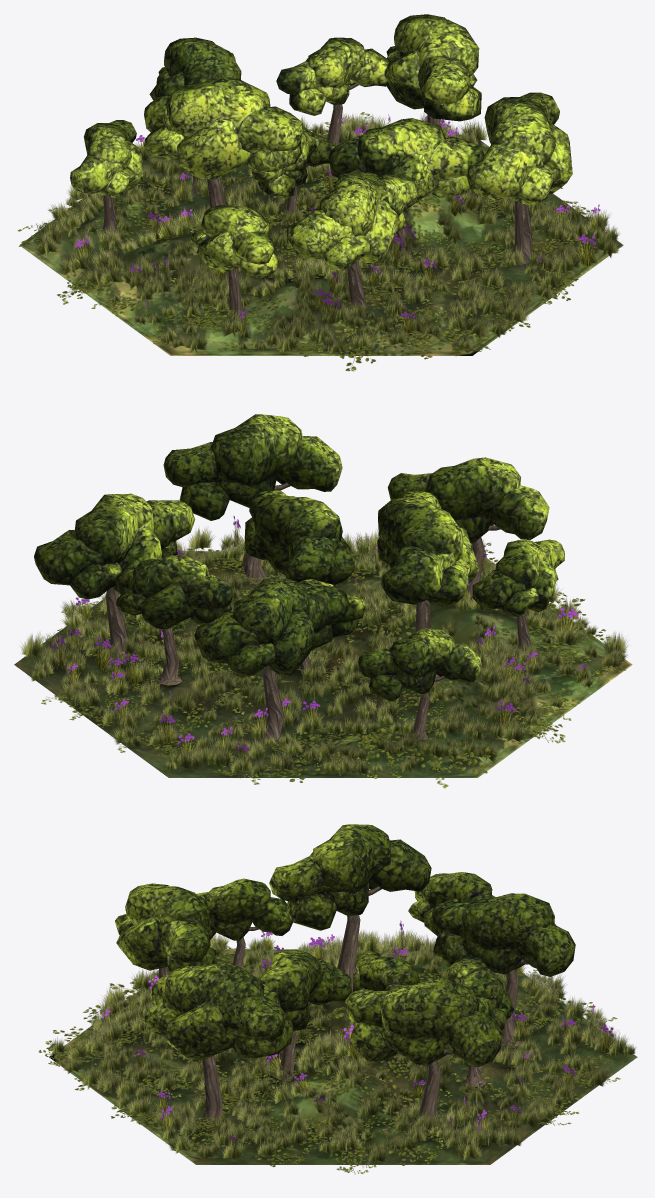
The model's file is decediousforest_2_0_no_light_baked.glb.
3 views of the same model, one above another, from view 1: azimuth 30°, elevation 25°; view 2: azimuth 150°, elevation 25°; view 3: azimuth 270°, elevation 25° (orthographic). The views are drawn at different scales.
Parts seen in each view (by area): view 1: decedious_forest_2_0; view 2: decedious_forest_2_0; view 3: decedious_forest_2_0.
Part boxes in pixels (left/top/right/bottom): decedious_forest_2_0: left=17, top=14, right=623, bottom=371; decedious_forest_2_0: left=14, top=414, right=632, bottom=788; decedious_forest_2_0: left=39, top=824, right=637, bottom=1174.
Bounding box in the file's own units: 1.97 × 0.74 × 2.13.
3 materials, 3 textured.
